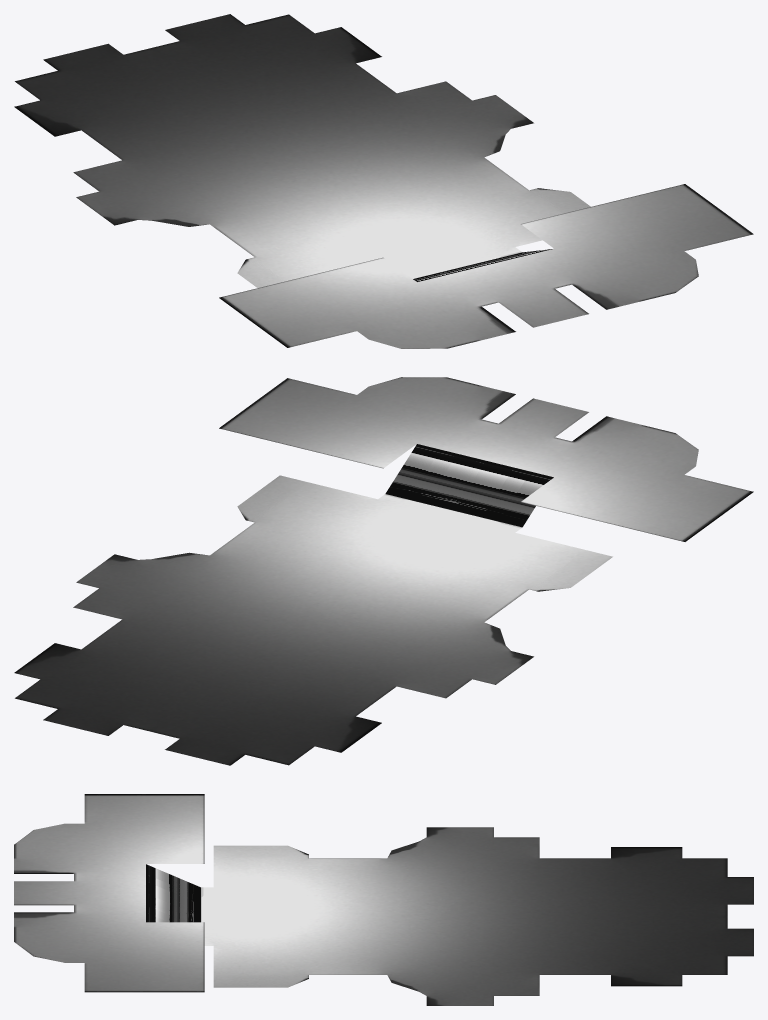
The model's file is Navmesh.glb.
3 views of the same model, one above another, from view 1: azimuth 30°, elevation 25°; view 2: azimuth 150°, elevation 25°; view 3: azimuth 270°, elevation 25° (orthographic). The views are drawn at different scales.
Visible parts, largest first — view 1: Cube.001; view 2: Cube.001; view 3: Cube.001.
Boxes of the visible parts, x1,y1,x2,y2 form: Cube.001: [14, 14, 753, 348]; Cube.001: [14, 377, 753, 765]; Cube.001: [14, 794, 753, 1005].
Size of the model in its own units: 67.48 by 3.71 by 106.
Materials: 1 (1 with a texture image).
